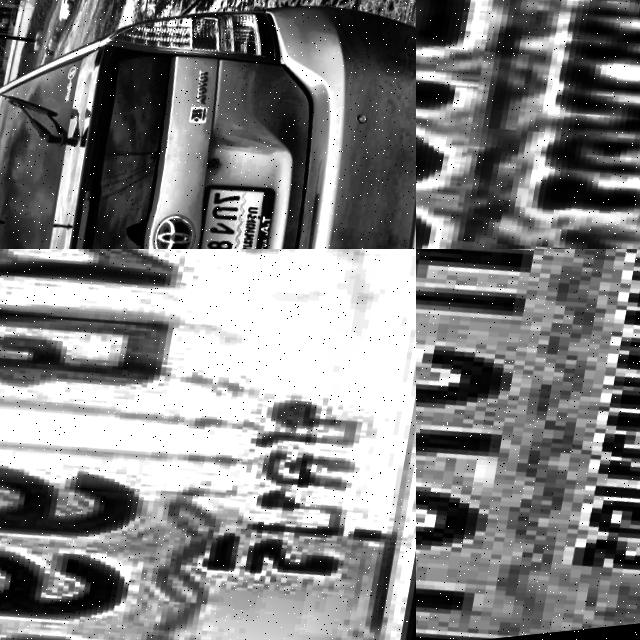license-plate: (0, 249, 416, 640), (416, 249, 640, 640), (416, 0, 640, 249), (183, 183, 280, 249)
